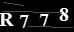7: (18, 14, 29, 29), (38, 13, 49, 28)
8: (58, 7, 70, 23)
R: (1, 12, 15, 27)
